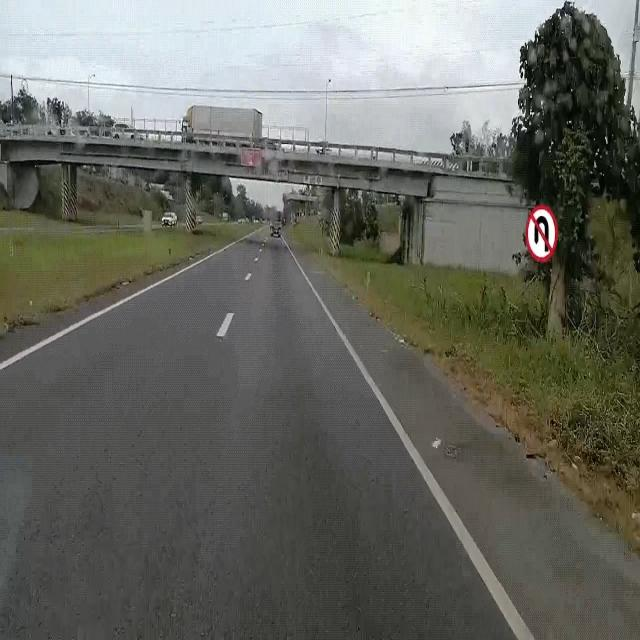Demi-Tour-Interdit: (524, 198, 560, 272)
